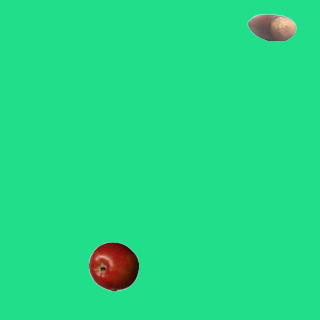Apple Braeburn: (88, 241, 138, 291)
Hazelnut: (246, 2, 296, 52)
